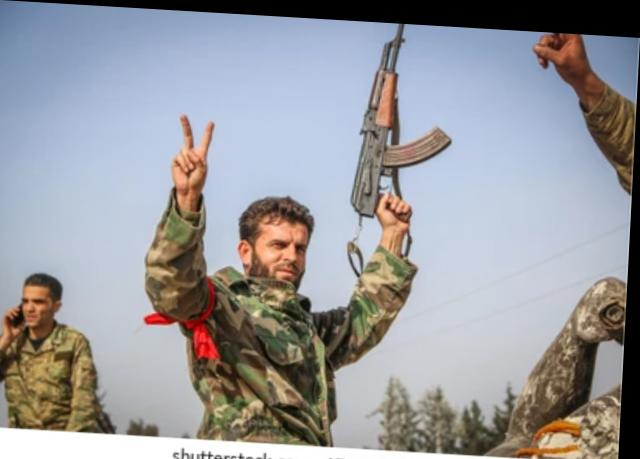other: (147, 141, 415, 433), (0, 271, 105, 431)
